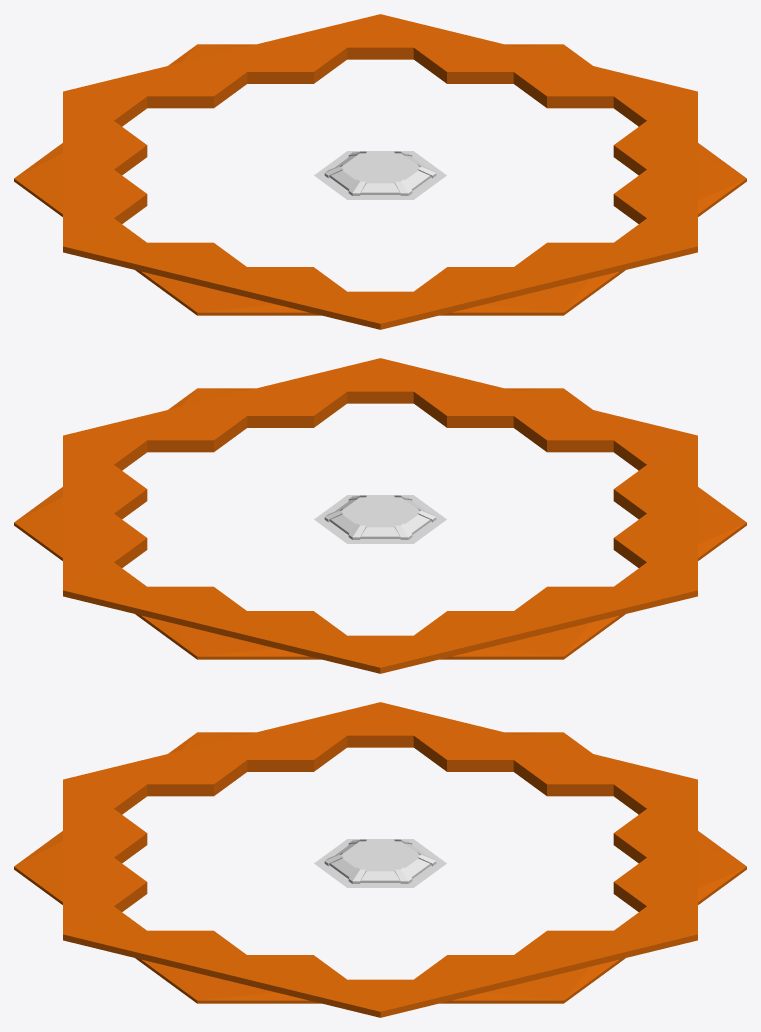
The model's file is HeaxgonsBoard.fbx.
3 views of the same model, one above another, from view 1: azimuth 30°, elevation 25°; view 2: azimuth 150°, elevation 25°; view 3: azimuth 270°, elevation 25° (orthographic).
Visible parts, largest first — view 1: HexagonGridExteriorCorrected, HexagonGridExteriorALT, Hexagon, HexagonInterior, HexagonLockSidings, HexagonInteriorInset; view 2: HexagonGridExteriorCorrected, HexagonGridExteriorALT, Hexagon, HexagonInterior, HexagonLockSidings, HexagonInteriorInset; view 3: HexagonGridExteriorCorrected, HexagonGridExteriorALT, Hexagon, HexagonInterior, HexagonLockSidings.
Part boxes in pixels (box(x1,y1,x2,y2)): HexagonGridExteriorCorrected: box(63, 14, 697, 329); HexagonGridExteriorALT: box(14, 44, 746, 315); Hexagon: box(329, 153, 431, 194); HexagonInterior: box(314, 151, 446, 199); HexagonLockSidings: box(324, 151, 436, 195); HexagonInteriorInset: box(314, 151, 446, 199); HexagonGridExteriorCorrected: box(63, 358, 697, 673); HexagonGridExteriorALT: box(14, 388, 746, 659); Hexagon: box(329, 497, 431, 538); HexagonInterior: box(314, 495, 446, 543); HexagonLockSidings: box(324, 495, 436, 539); HexagonInteriorInset: box(315, 495, 444, 543); HexagonGridExteriorCorrected: box(63, 702, 697, 1017); HexagonGridExteriorALT: box(14, 732, 746, 1003); Hexagon: box(329, 841, 431, 882); HexagonInterior: box(314, 839, 446, 887); HexagonLockSidings: box(324, 839, 436, 883).
Bounding box in the file's own units: 1100 × 24.68 × 1100.
